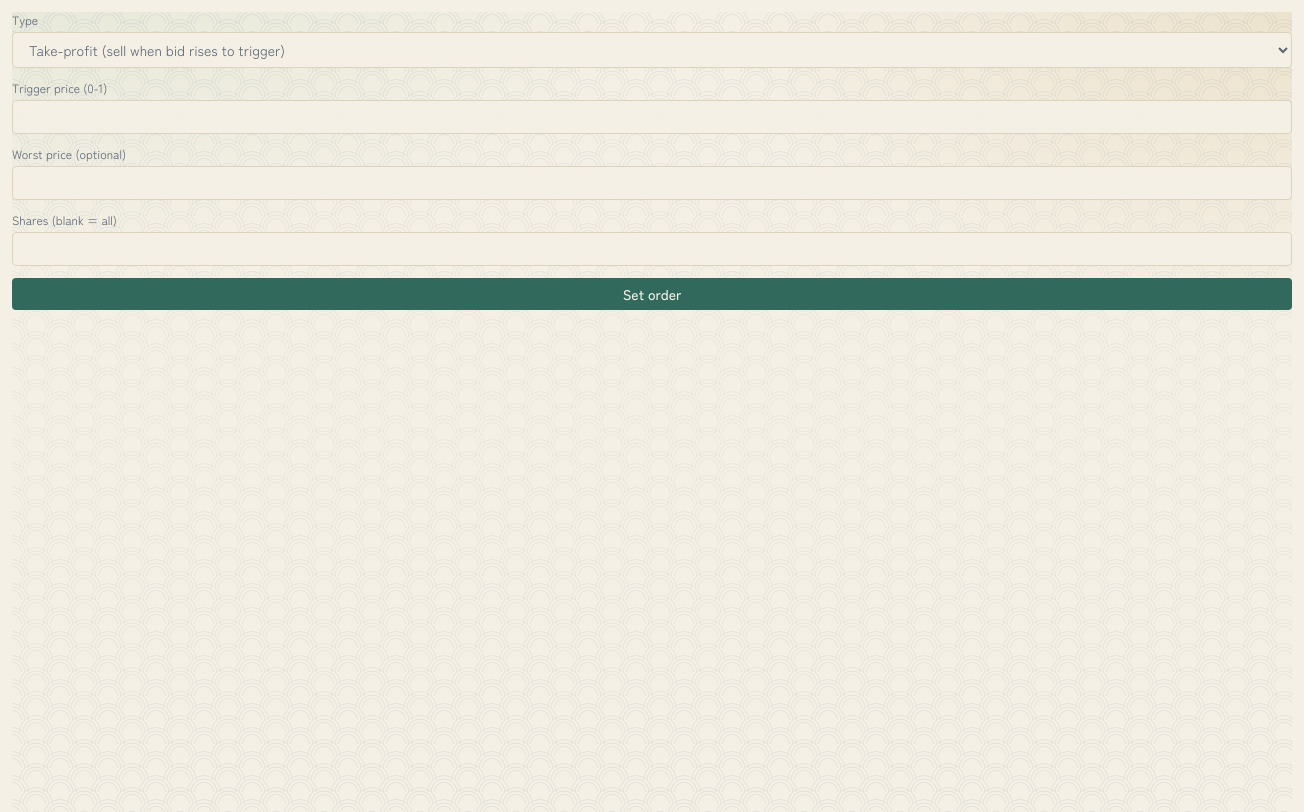
Test case: TpSlForm › creates a stop-loss with a worst price
The image size is (1304, 812).
Select "Stop-loss (sell when bid falls to trigger)" in the dropdown labelled "Type": (652, 50) [12,32,1292,68]
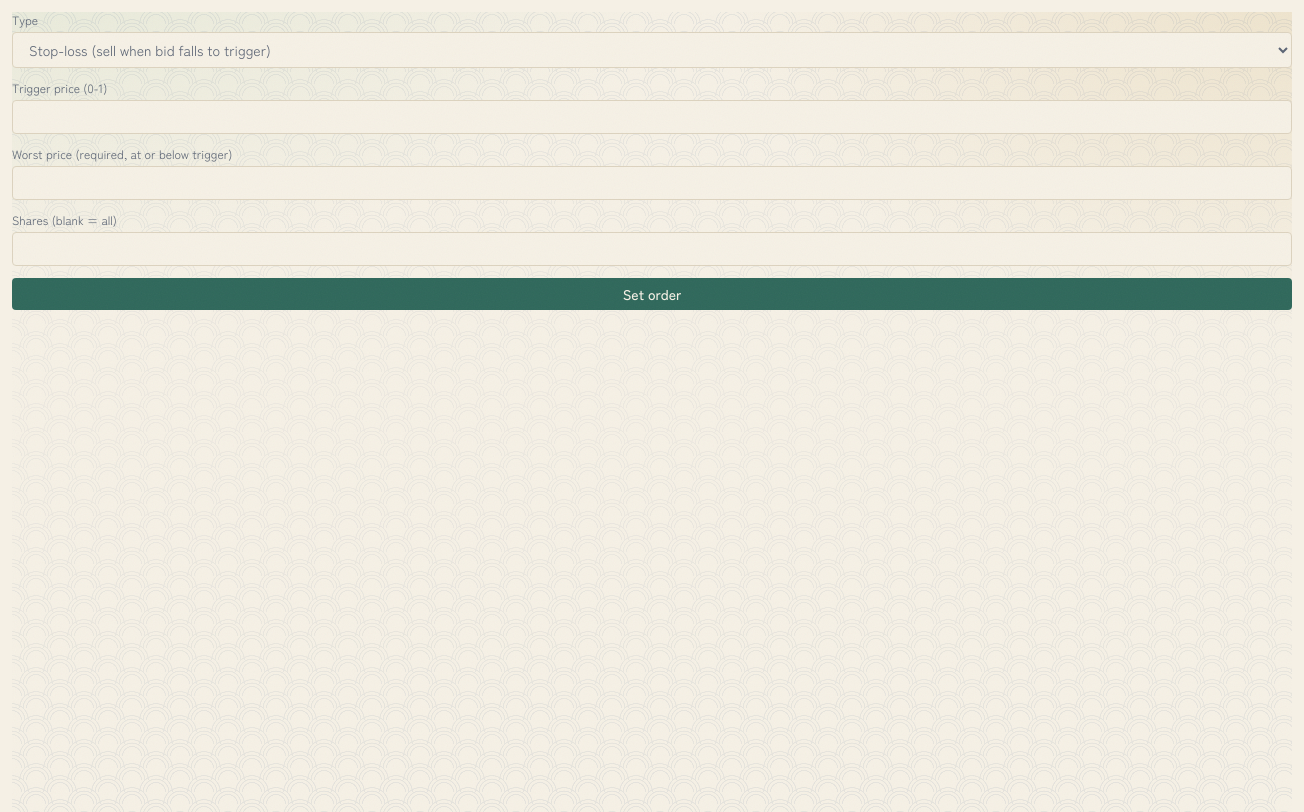
In the field labelled "Trigger price (0-1)": (652, 117) [12,100,1292,134], type "0.3"
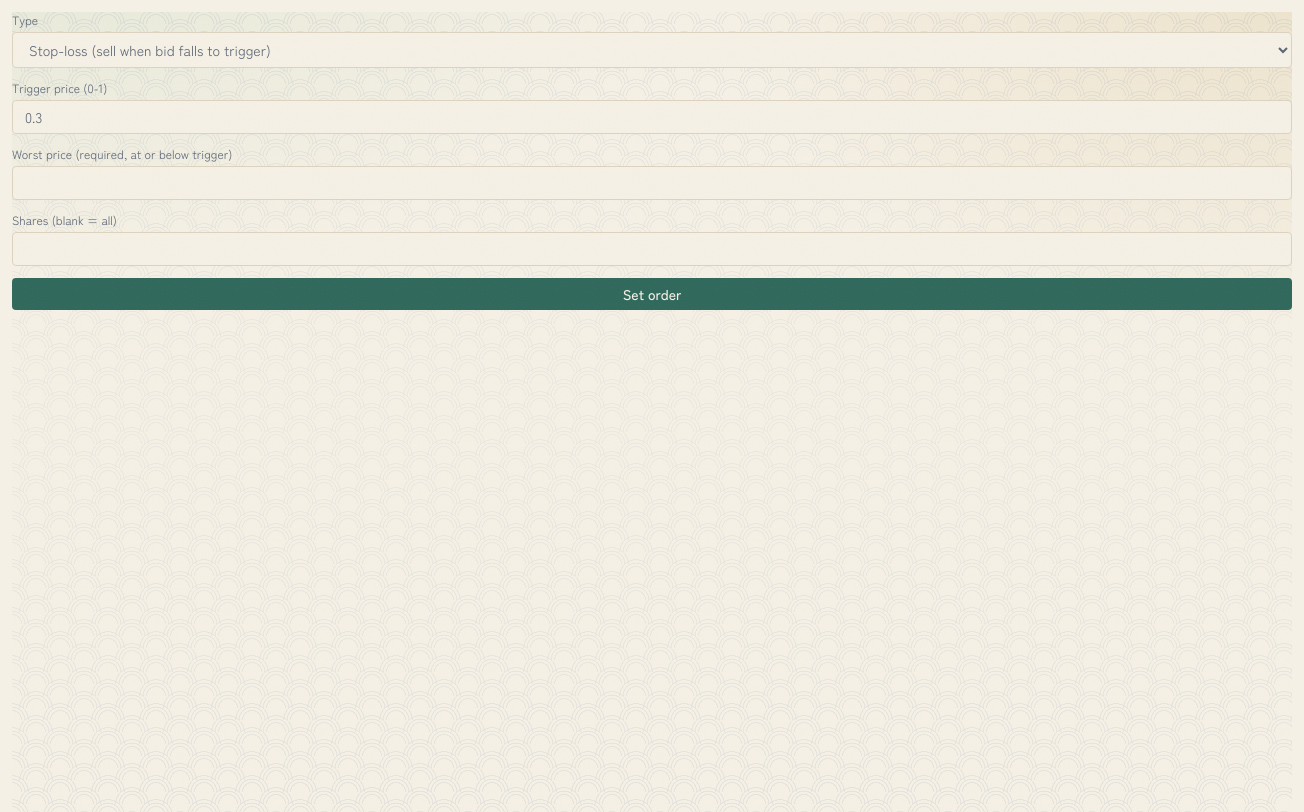
In the field labelled "Worst price (required, at or below trigger)": (652, 183) [12,166,1292,200], type "0.25"
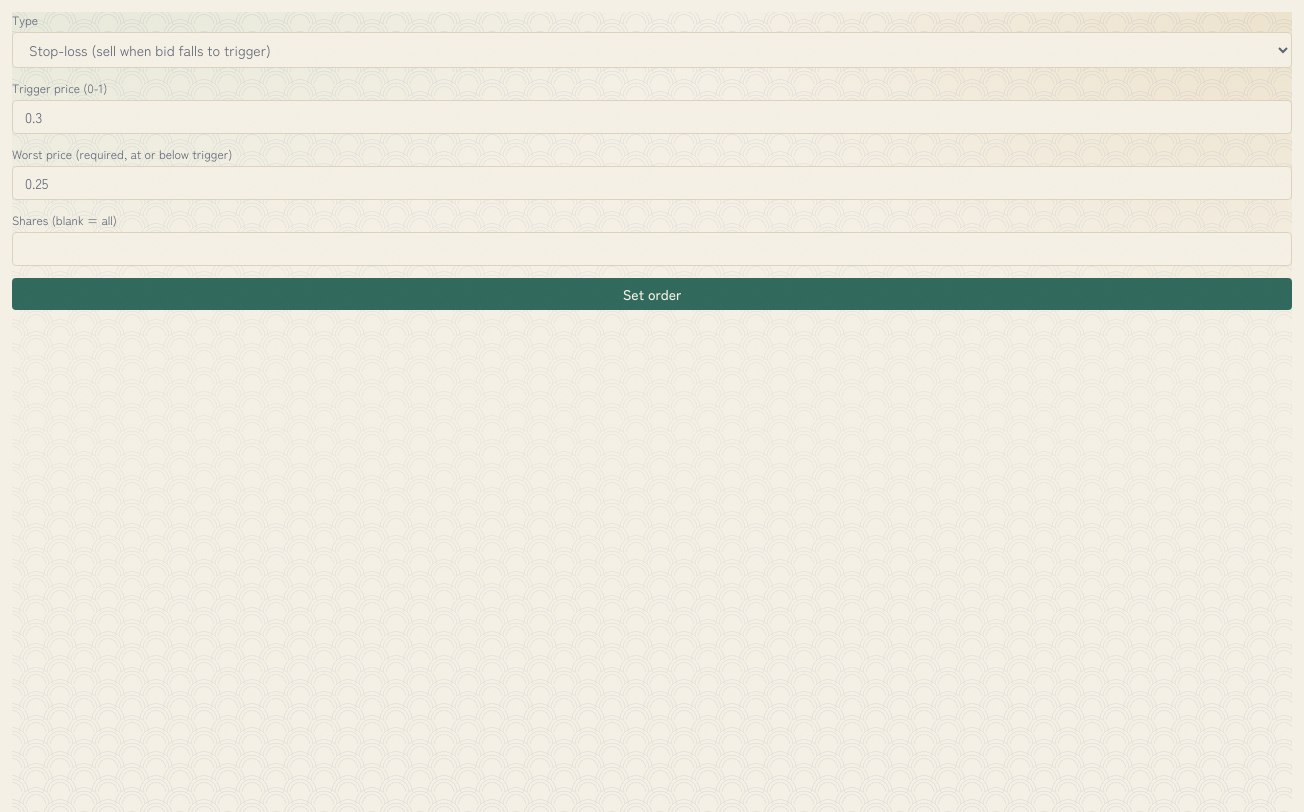
Click the button "Set order": (652, 294) [12,278,1292,310]
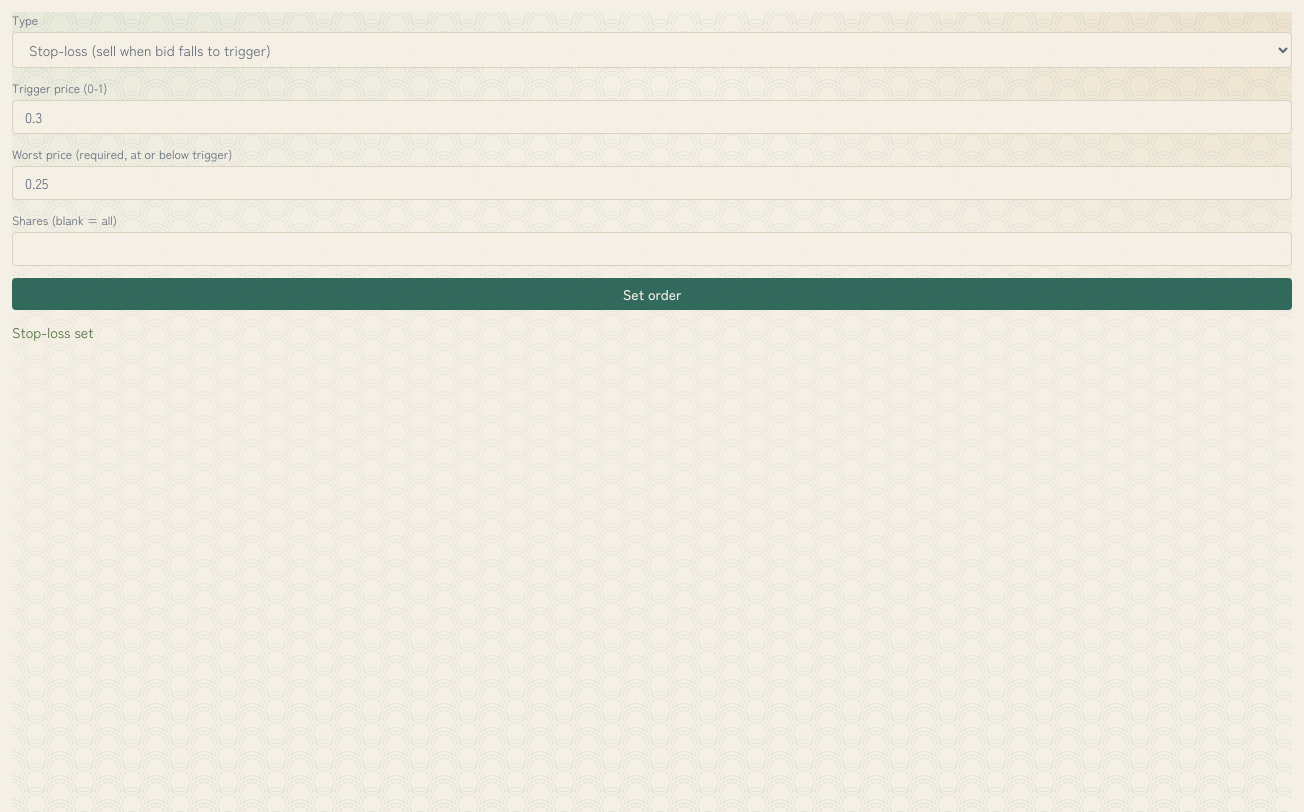
Result: the text "Stop-loss set" is shown at [12,322,94,342]
